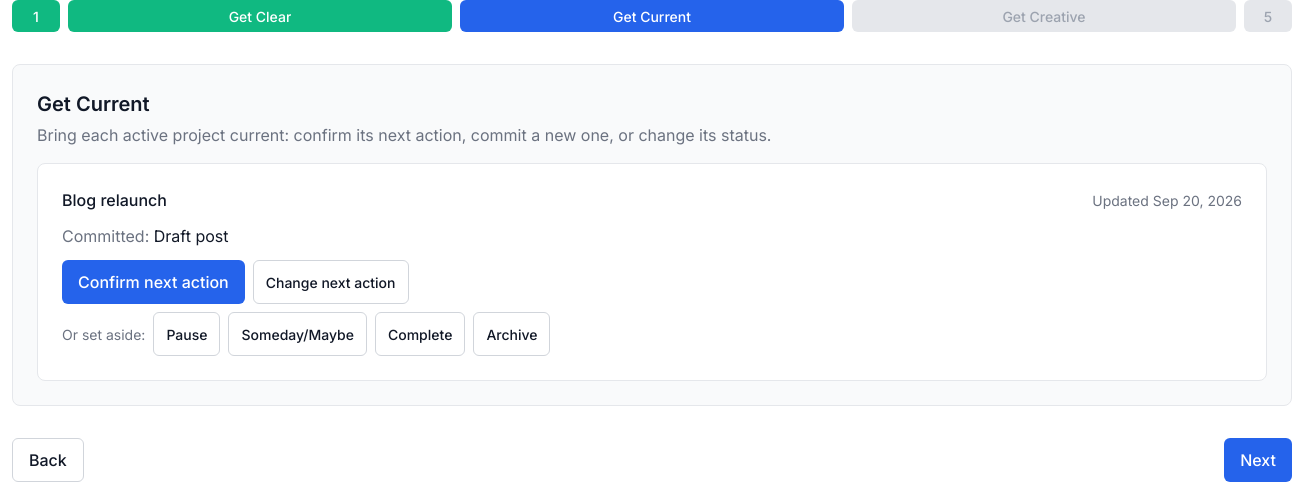
Test case: ReviewShell › Get Current: Confirm next action shows a confirmed state
The width and height of the screenshot is (1304, 499).
Click the button with aria-label "Confirm the next action for Blog relaunch". click: {"x": 153, "y": 282}
box: [62,260,245,304]
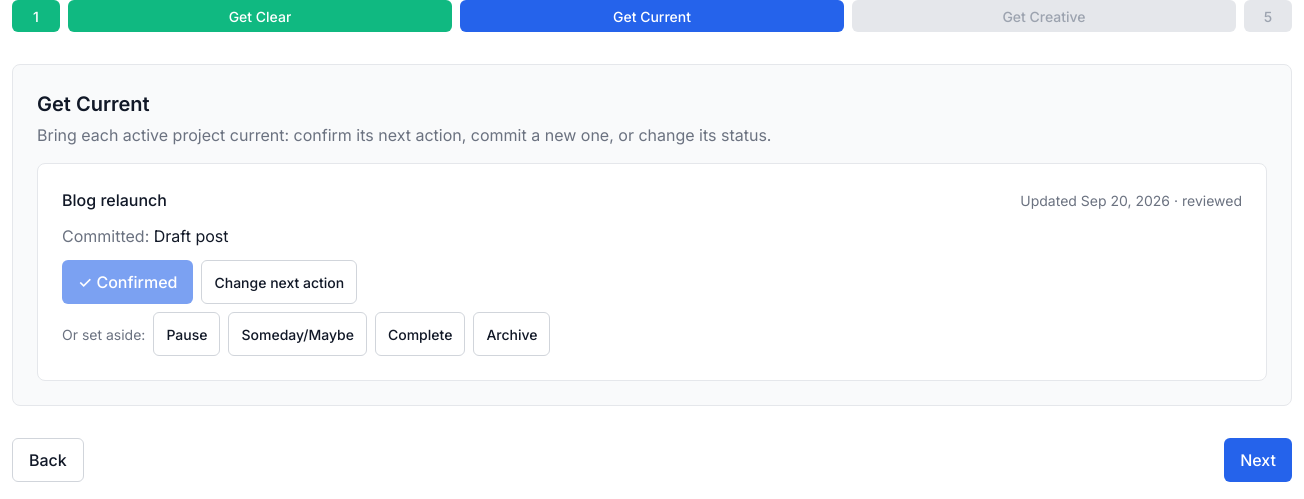
Expected: the button with aria-label "Next action confirmed for Blog relaunch" is disabled, [62,260,194,304]
